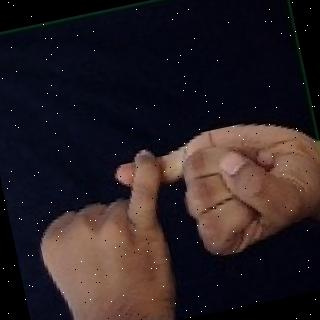S: (16, 100, 320, 320)
